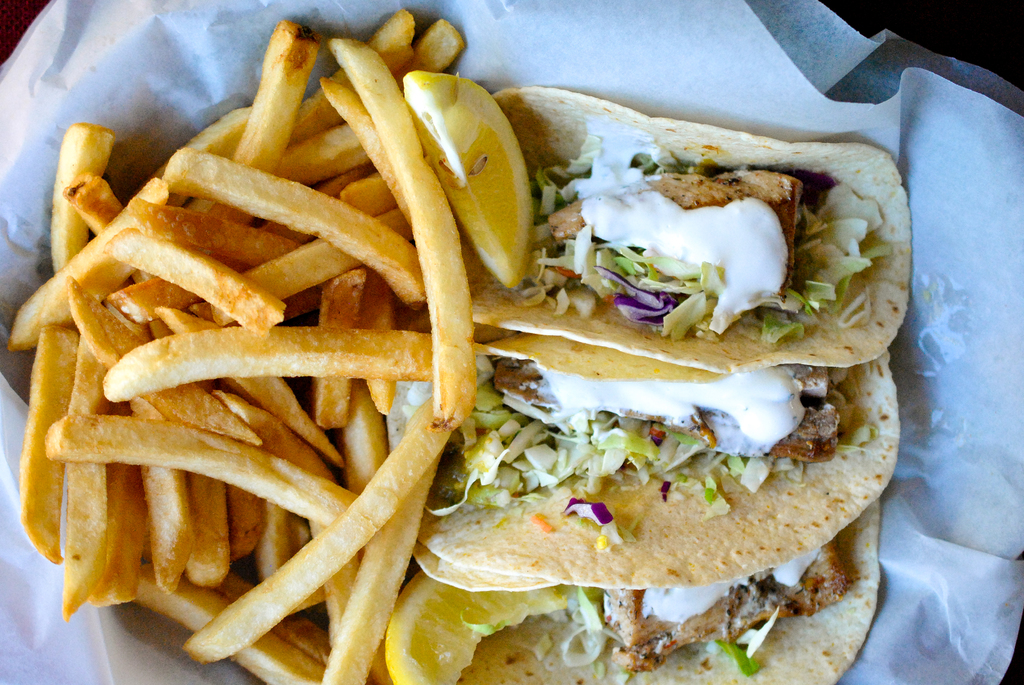French fries: (12, 28, 540, 674)
